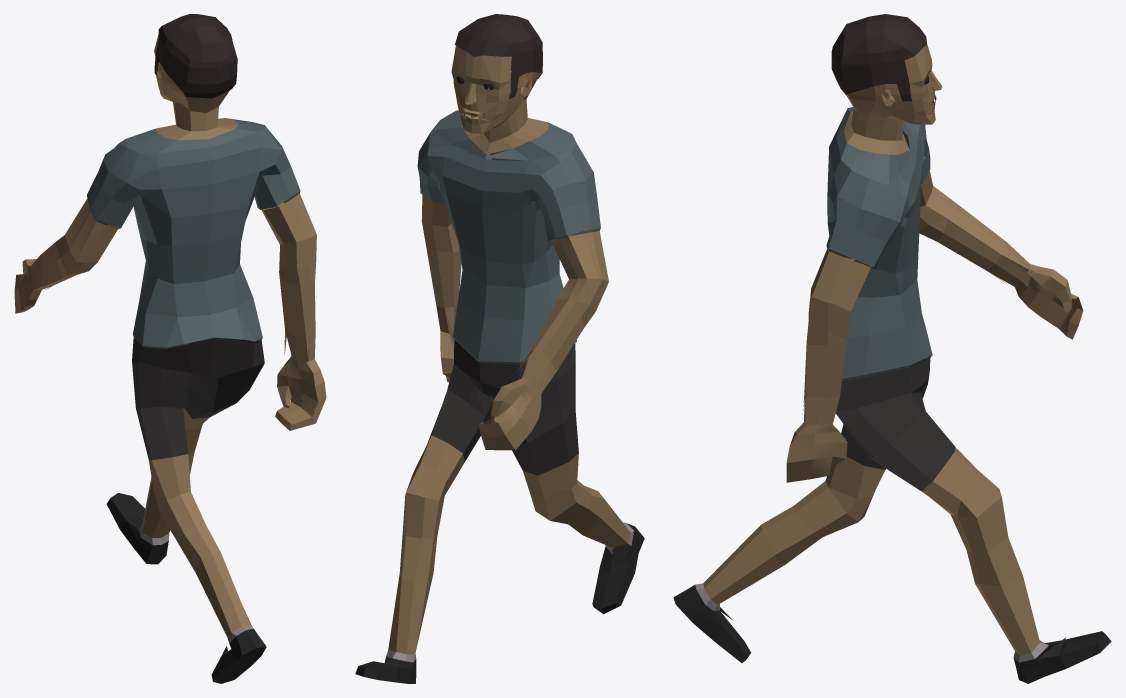
File: person_3_w3.fbx
3 views of the same model, side by side, from view 1: azimuth 30°, elevation 25°; view 2: azimuth 150°, elevation 25°; view 3: azimuth 270°, elevation 25° (orthographic). The views are drawn at different scales.
Parts seen in each view (by area): view 1: BaseHuman; view 2: BaseHuman; view 3: BaseHuman.
Boxes of the visible parts, box(x1,y1,x2,y2) form: BaseHuman: box(14, 14, 326, 683); BaseHuman: box(355, 14, 644, 683); BaseHuman: box(673, 14, 1111, 683).
Size of the model in its own units: 0.3508 by 1 by 0.601.
